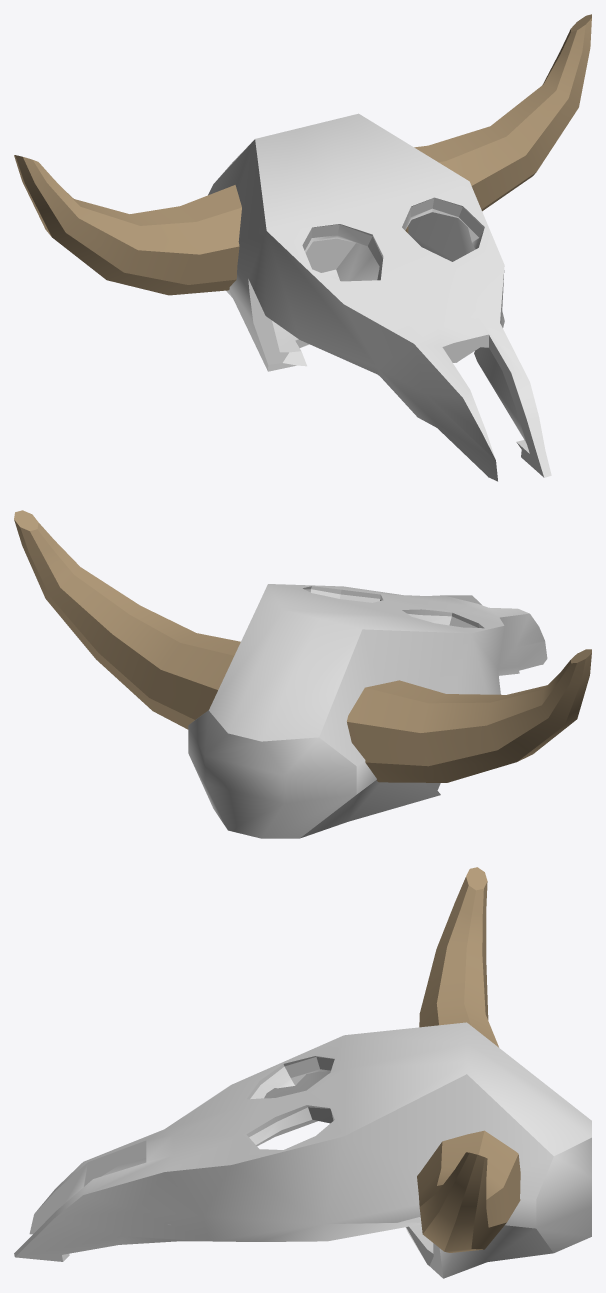
File: skull.glb
The picture shows the model from 3 angles, top to bottom: view 1: azimuth 30°, elevation 25°; view 2: azimuth 150°, elevation 25°; view 3: azimuth 270°, elevation 25°; orthographic projection. The views are drawn at different scales.
Parts seen in each view (by area): view 1: polySurface7; view 2: polySurface7; view 3: polySurface7.
Part boxes in pixels (<box>): polySurface7: <box>14,14,591,481</box>; polySurface7: <box>14,510,591,838</box>; polySurface7: <box>14,867,591,1278</box>.
Size of the model in its own units: 0.1551 by 0.0593 by 0.1318.
Materials: 1 (1 with a texture image).
